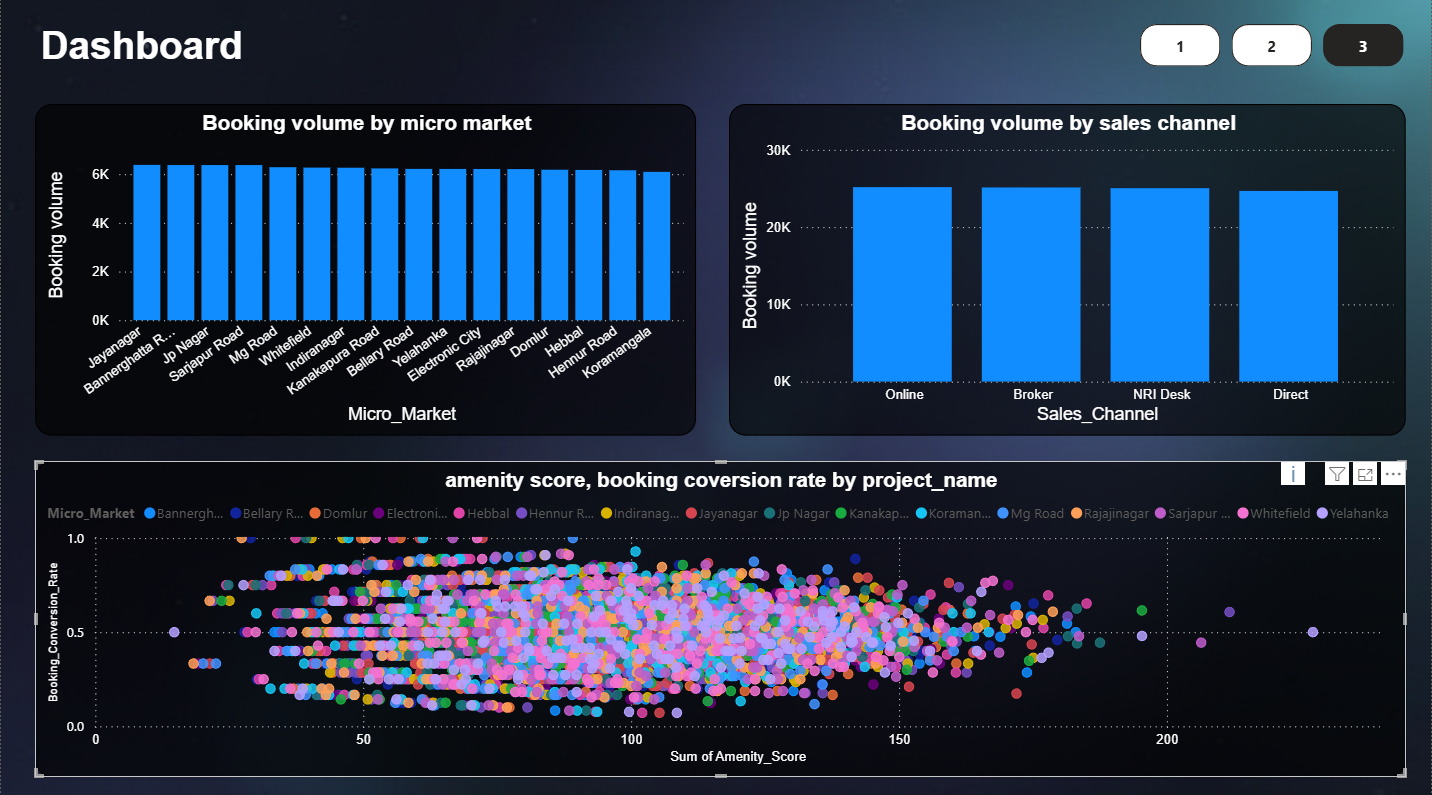

What the dashboard file says about the page in this screenshot:
{"tool":"powerbi","page":{"name":"3","canvas":[1280,720],"ordinal":2},"visuals":[{"type":"textbox","title":"Dashboard","box":[30.4,26.9,192.5,38.5],"z":0},{"type":"pageNavigator","box":[1019.9,27.1,238.6,38.4],"z":1000},{"type":"columnChart","title":"Booking volume by micro market","fields":{"Category":["Luxury_Housing_Bangalore_cleaned_data_pro.Micro_Market"],"Y":["CountNonNull(Luxury_Housing_Bangalore_cleaned_data_pro.Transaction_Type)"]},"box":[30.9,98.2,592.3,296.6],"z":2000},{"type":"columnChart","title":"Booking volume by sales channel","fields":{"Category":["Luxury_Housing_Bangalore_cleaned_data_pro.Sales_Channel"],"Y":["CountNonNull(Luxury_Housing_Bangalore_cleaned_data_pro.Sales_Channel)"]},"box":[652.2,98.2,606.3,296.6],"z":3000},{"type":"scatterChart","title":" amenity score, booking coversion rate by project_name","fields":{"Category":["Luxury_Housing_Bangalore_cleaned_data_pro.Project_Name"],"X":["Sum(Luxury_Housing_Bangalore_cleaned_data_pro.Amenity_Score)"],"Series":["Luxury_Housing_Bangalore_cleaned_data_pro.Micro_Market"],"Y":["Luxury_Housing_Bangalore_cleaned_data_pro.Booking_Conversion_Rate"]},"box":[30.9,418.2,1227.6,282.6],"z":4000}]}

Visuals, with their boxes in screenshot pixels (x1, y1, x2, y2), scaled from the page's 1280x720 canvas onto the 1432x795 screenshot:
"Dashboard" textbox: region(34, 30, 249, 72)
pageNavigator: region(1141, 30, 1408, 72)
"Booking volume by micro market" columnChart: region(35, 108, 697, 436)
"Booking volume by sales channel" columnChart: region(730, 108, 1408, 436)
" amenity score, booking coversion rate by project_name" scatterChart: region(35, 462, 1408, 774)
